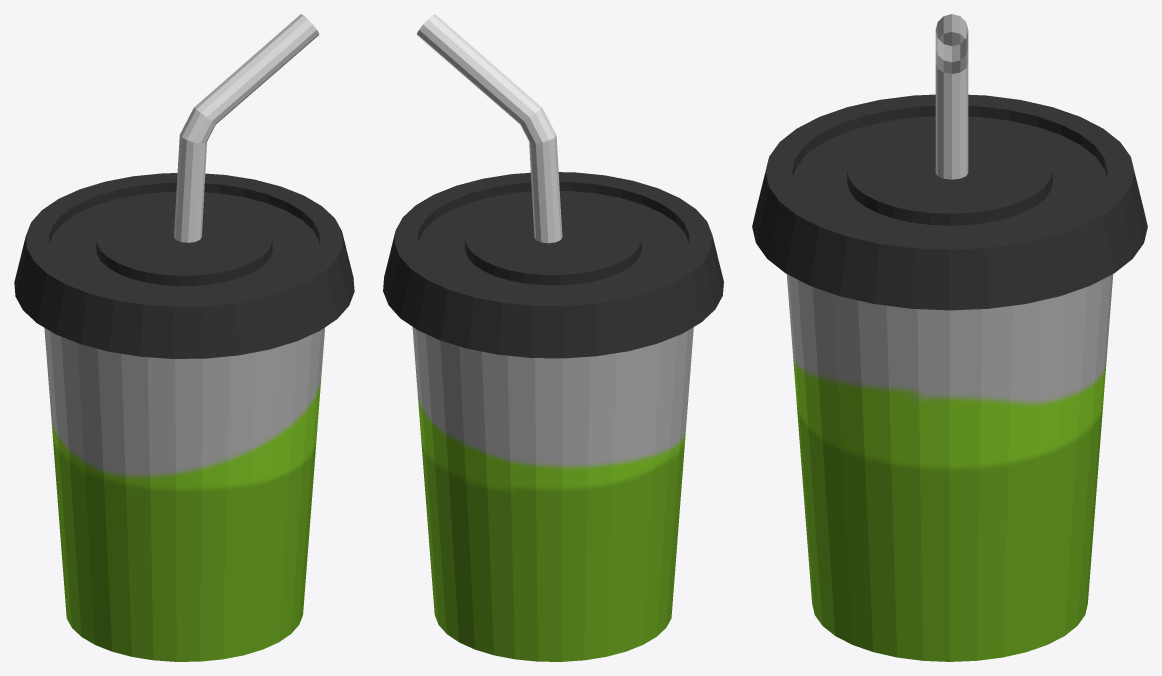
Rendered from cup_matcha.fbx.
3 renders of one model, left to right at view 1: azimuth 30°, elevation 25°; view 2: azimuth 150°, elevation 25°; view 3: azimuth 270°, elevation 25°, orthographic. The views are drawn at different scales.
Visible parts, largest first — view 1: mesh_PlasticCup; view 2: mesh_PlasticCup; view 3: mesh_PlasticCup.
Part boxes in pixels (box(x1,y1,x2,y2)): mesh_PlasticCup: box(14, 14, 354, 661); mesh_PlasticCup: box(383, 14, 723, 661); mesh_PlasticCup: box(752, 14, 1147, 661).
Bounding box in the file's own units: 0.3 × 0.55 × 0.3.
Materials: 1 (1 with a texture image).
